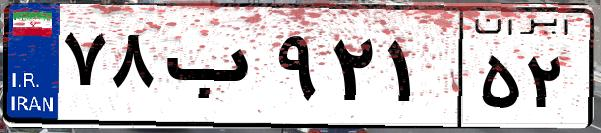1: (385, 28, 445, 110)
2: (330, 28, 385, 110), (525, 38, 570, 115)
5: (475, 38, 525, 113)
7: (57, 26, 110, 100)
8: (110, 28, 158, 98)
9: (270, 28, 330, 110)
ب: (158, 20, 270, 120)
